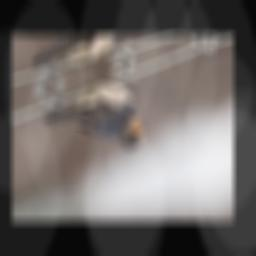Swallow: (38, 65, 152, 177)
